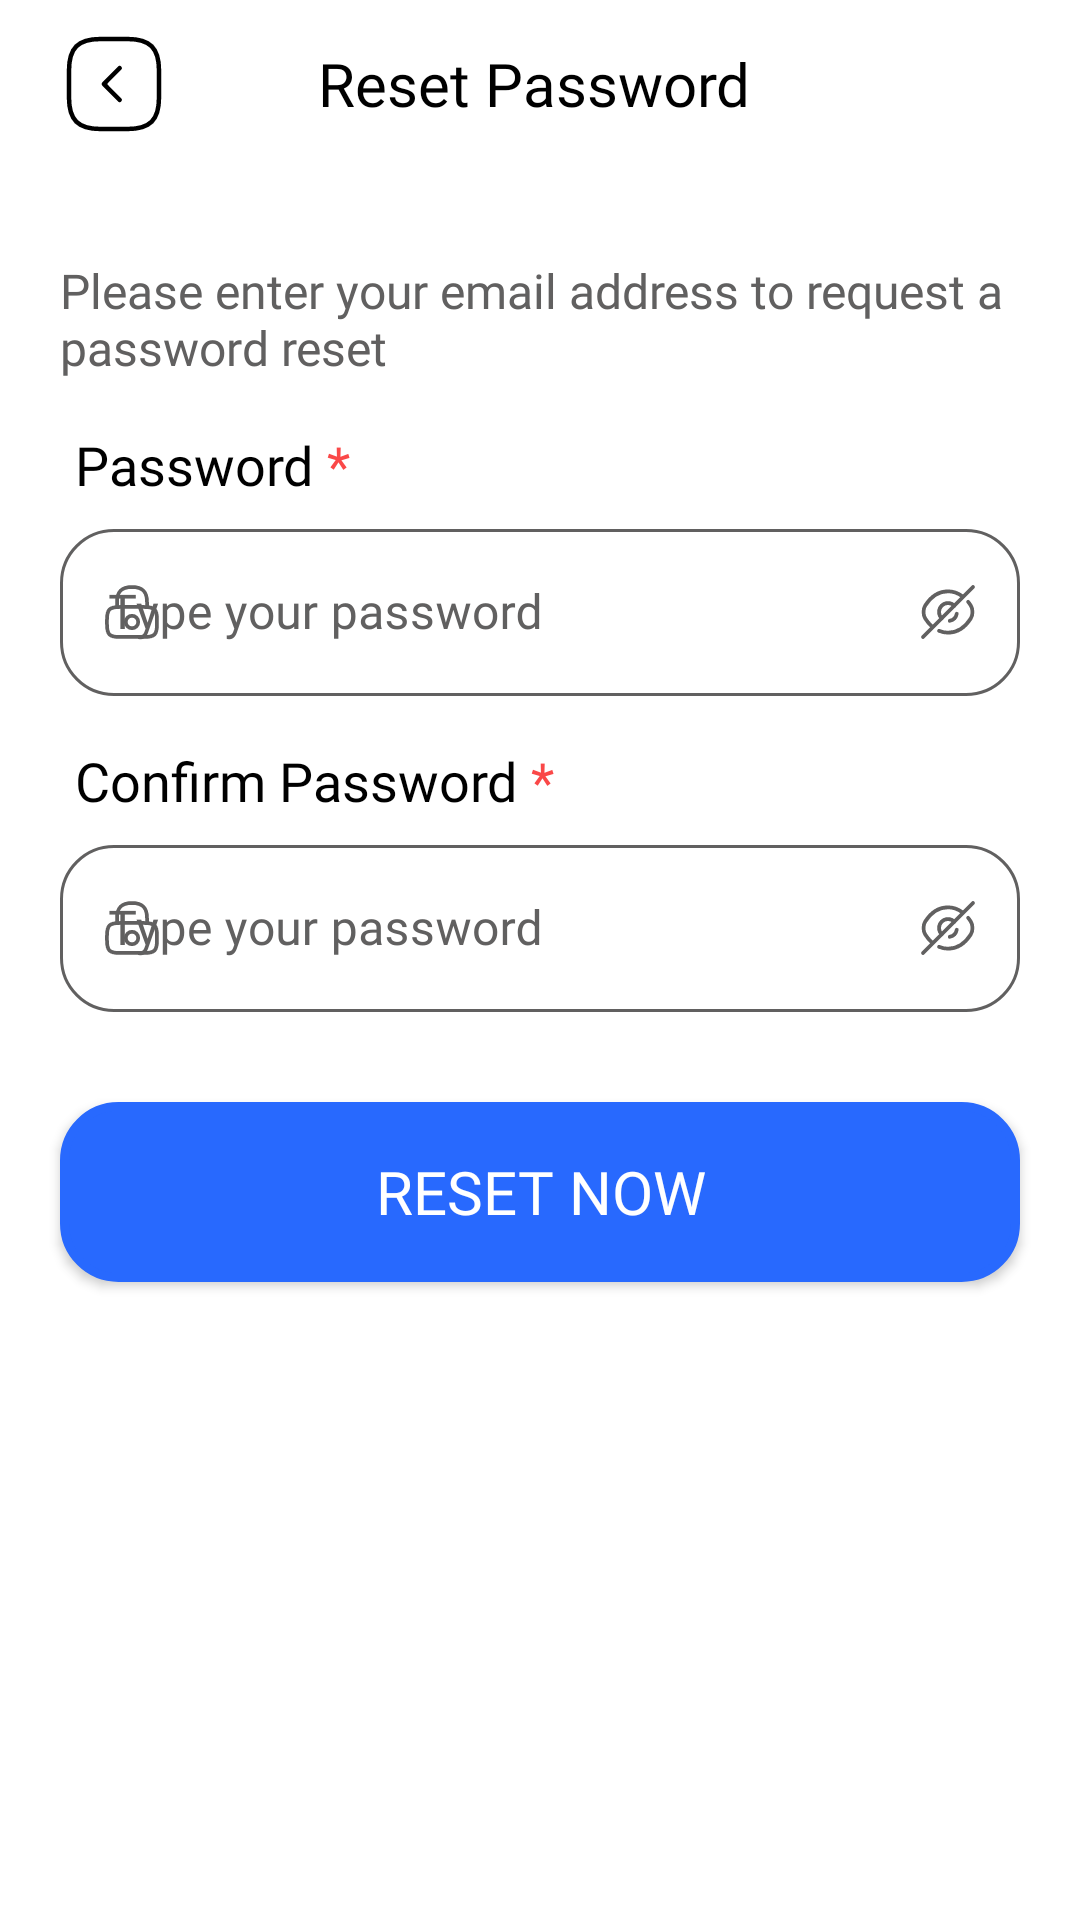

Where to tap for icons on this 1080×1920 app screen, as (x,y):
left arrow: (114,84)
